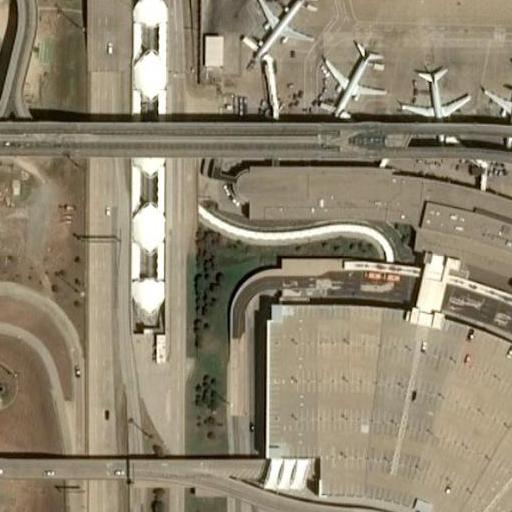Aircraft: (322, 39, 390, 122), (397, 57, 472, 128), (241, 0, 316, 61), (482, 55, 512, 132)
